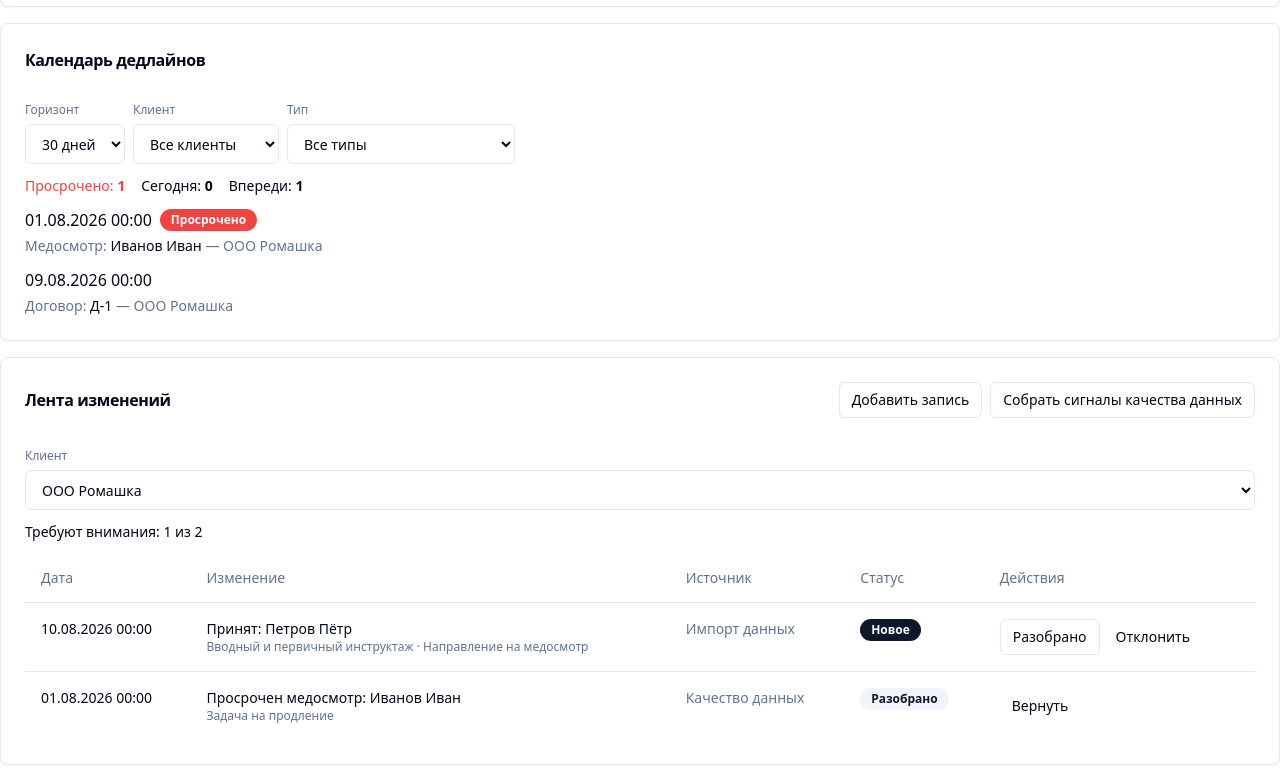
Ручная запись в ленту (BIZ-51 срез-8) › форма скрыта до клика и раскрывается кнопкой
(page scrolled)
Expected: the table with test id "feed-table" is shown, [25,554,1255,740]
Click the button with test id "add-change-button": {"x": 910, "y": 400} [839,382,982,418]
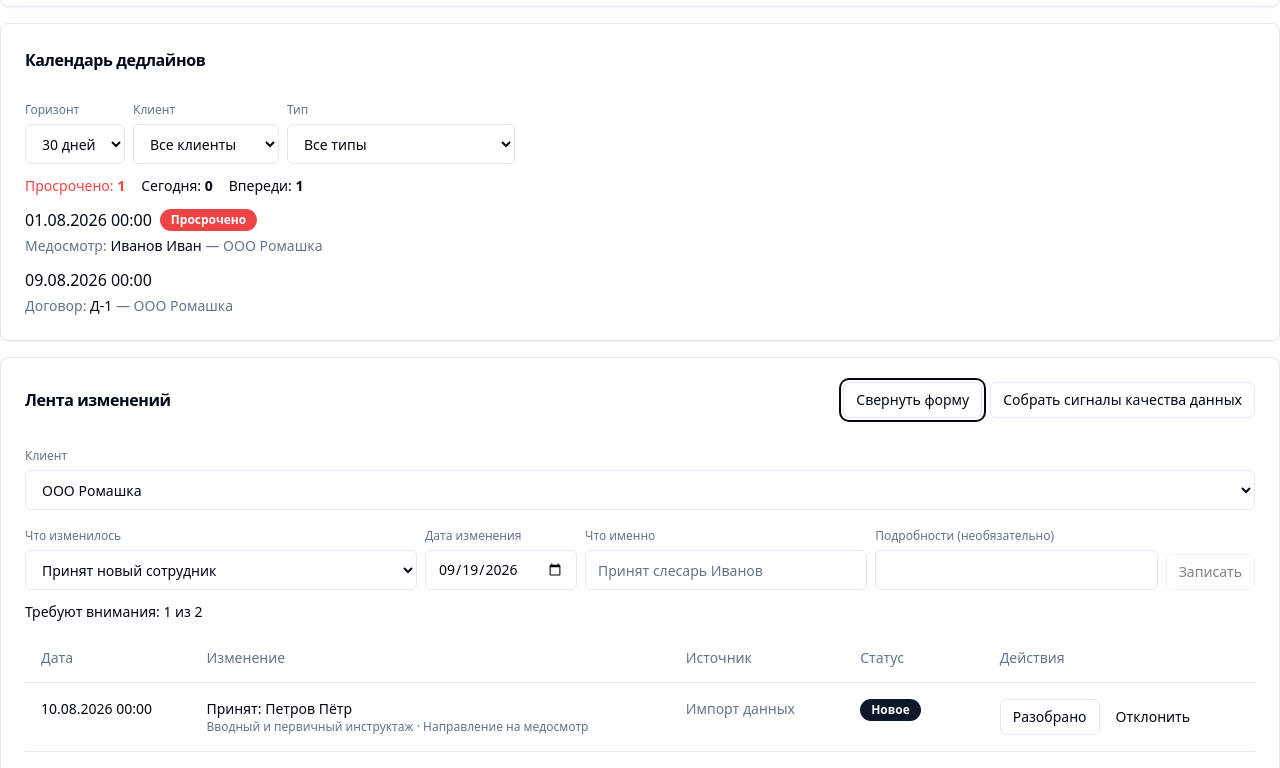
Expected: the form with test id "add-change-form" is shown, [25,522,1255,590]
